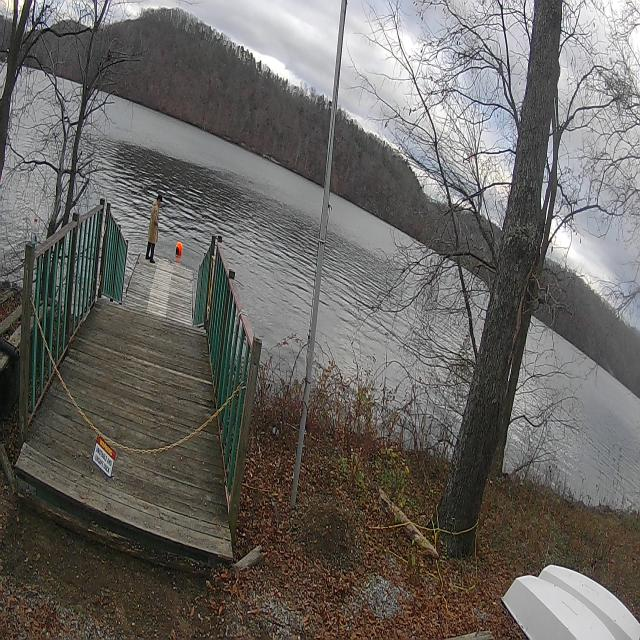Buoy: (173, 235, 187, 261)
